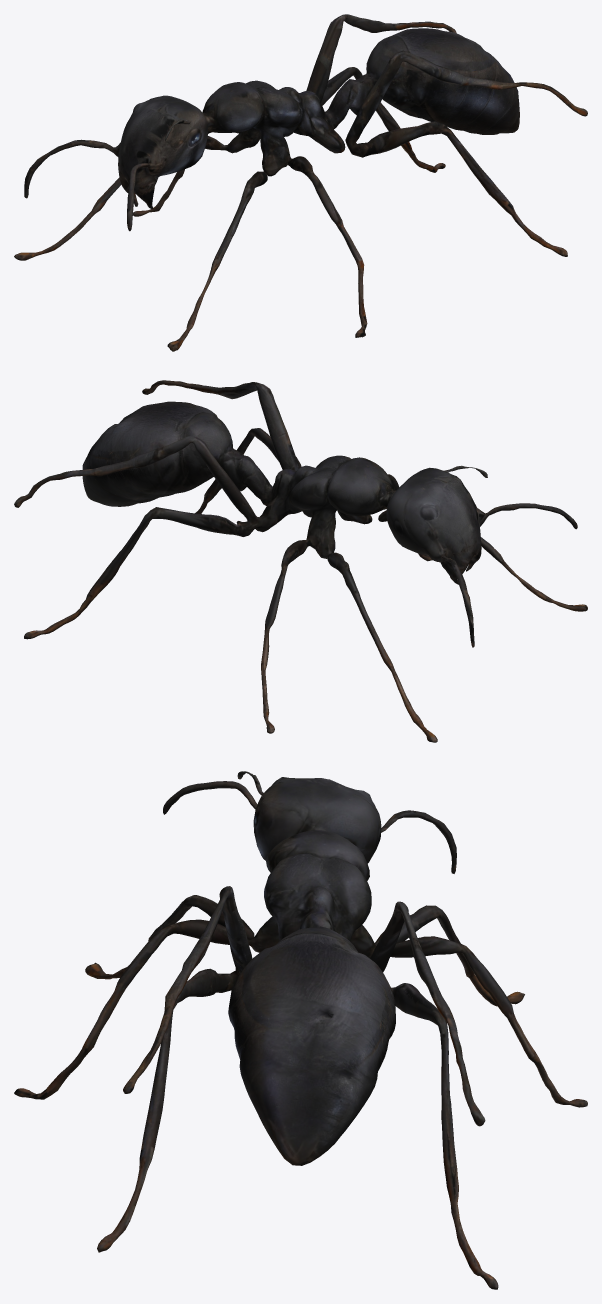
Rendered from black_ant.glb.
3 views of the same model, one above another, from view 1: azimuth 30°, elevation 25°; view 2: azimuth 150°, elevation 25°; view 3: azimuth 270°, elevation 25° (orthographic). The views are drawn at different scales.
Size of the model in its own units: 2 by 0.9461 by 1.57.
1 material, 1 textured.
